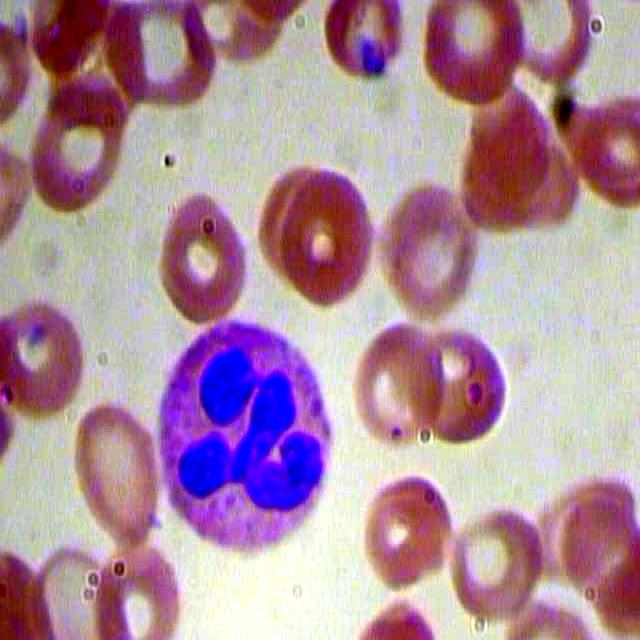RBC: (26, 77, 133, 222), (348, 306, 450, 450), (416, 312, 518, 456), (447, 486, 549, 630), (73, 399, 168, 553), (379, 178, 473, 330), (280, 163, 376, 305), (157, 186, 250, 326), (1, 278, 93, 418), (359, 470, 454, 598), (423, 1, 524, 108), (498, 1, 600, 88), (316, 1, 416, 86)
WBC: (150, 317, 337, 568)
